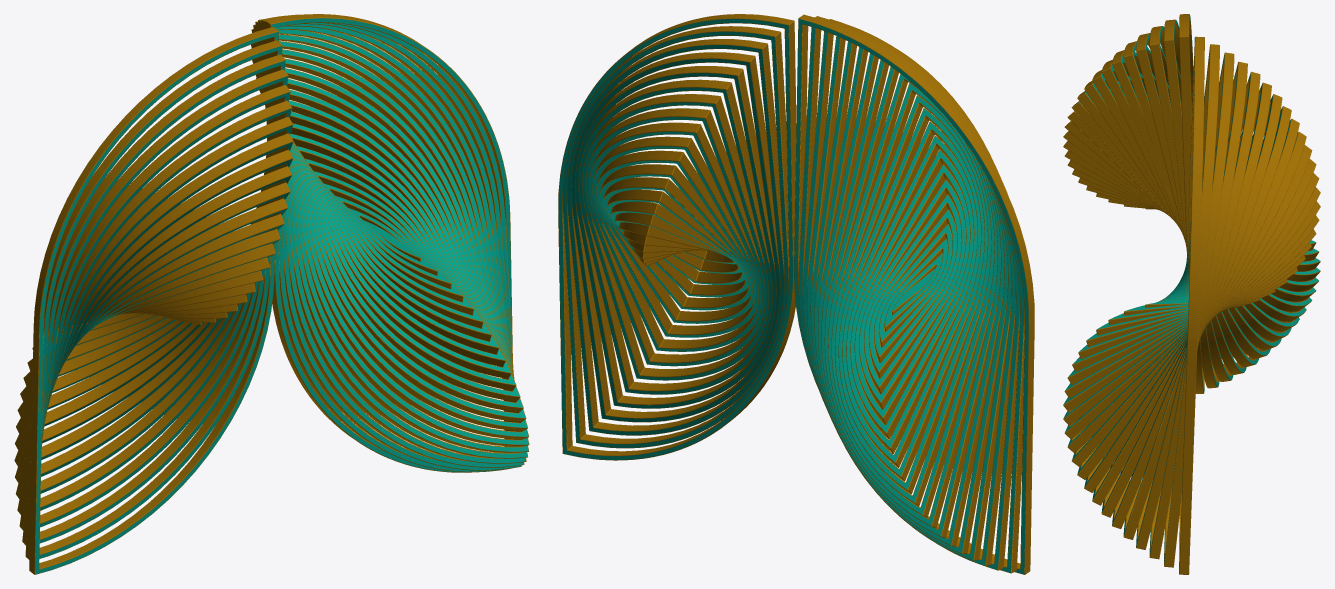
File: DETENTE.glb
3 views of the same model, side by side, from view 1: azimuth 30°, elevation 25°; view 2: azimuth 150°, elevation 25°; view 3: azimuth 270°, elevation 25° (orthographic). The views are drawn at different scales.
Visible parts, largest first — view 1: Detente; view 2: Detente; view 3: Detente.
Boxes of the visible parts, bbox=[...] form: Detente: bbox=[14, 14, 529, 574]; Detente: bbox=[558, 14, 1034, 574]; Detente: bbox=[1063, 14, 1320, 574].
Size of the model in its own units: 0.5 by 0.5 by 0.2673.
